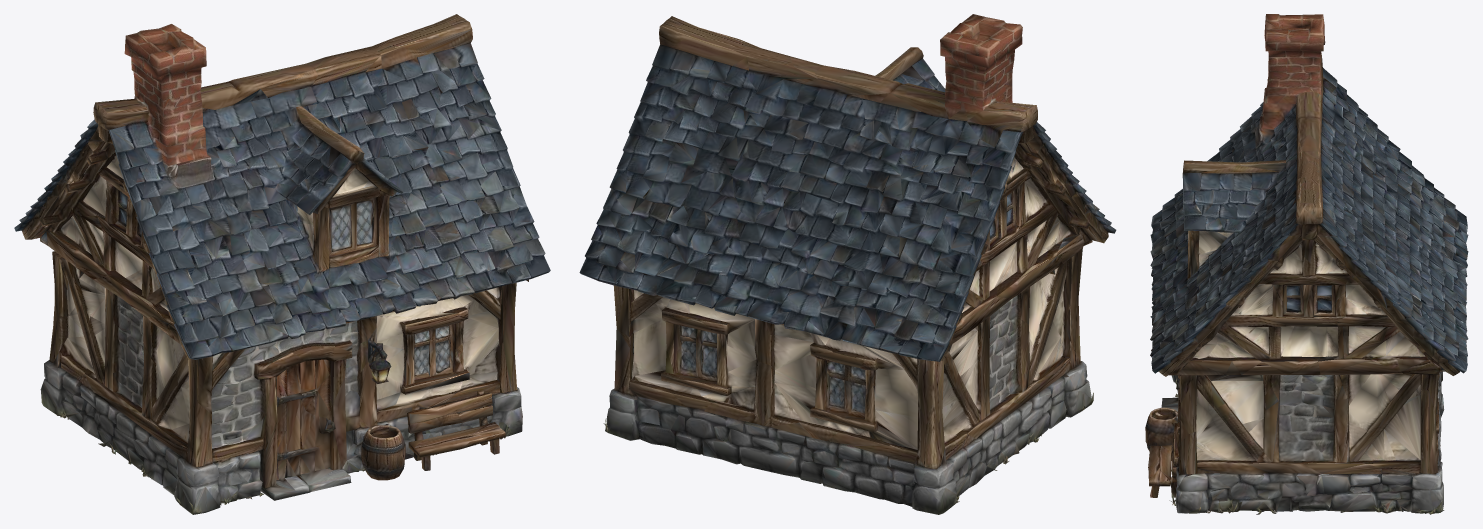
The model's file is house_peasant_b_lod0.glb.
3 renders of one model, left to right at view 1: azimuth 30°, elevation 25°; view 2: azimuth 150°, elevation 25°; view 3: azimuth 270°, elevation 25°, orthographic. The views are drawn at different scales.
Visible parts, largest first — view 1: Mesh_0; view 2: Mesh_0; view 3: Mesh_0.
Boxes of the visible parts, <box> form: Mesh_0: <box>14,14,550,514</box>; Mesh_0: <box>579,14,1116,514</box>; Mesh_0: <box>1145,14,1468,514</box>.
Size of the model in its own units: 1.7 by 1.84 by 1.47.
Materials: 1 (1 with a texture image).
